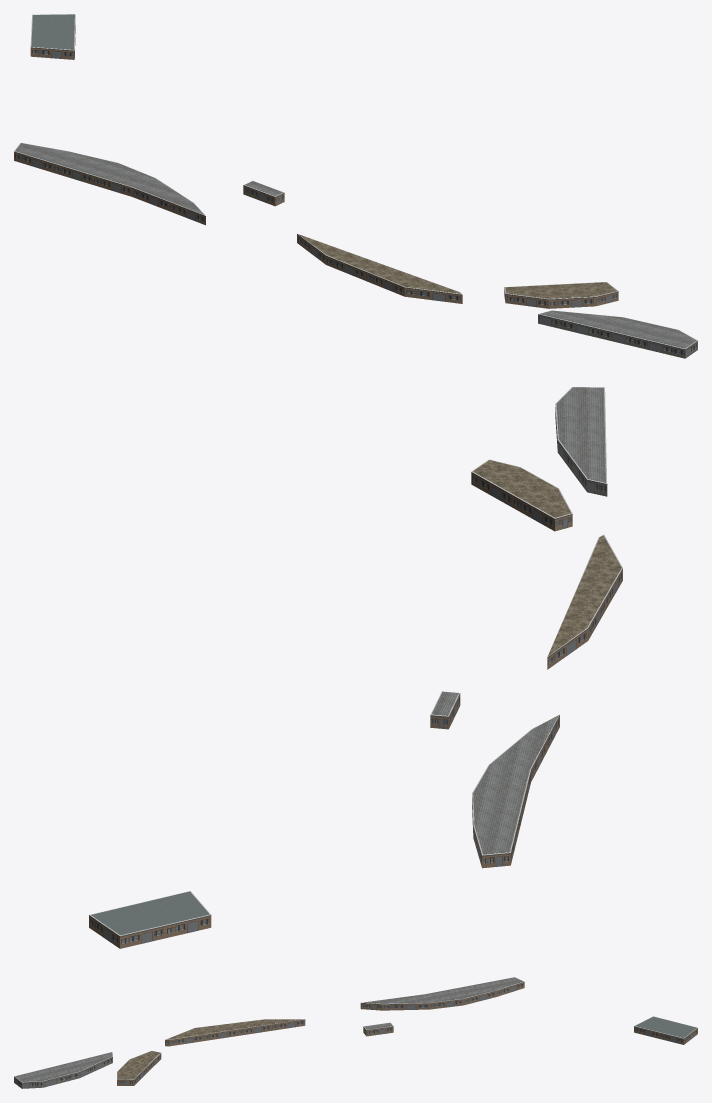
The picture shows the model from 3 angles, top to bottom: view 1: azimuth 30°, elevation 25°; view 2: azimuth 150°, elevation 25°; view 3: azimuth 270°, elevation 25°; orthographic projection. The views are drawn at different scales.
Visible parts, largest first — view 1: BrickArcade, SlateRoof, ConcreteRoof, PanelArcade, ZincRoof, Coping; view 2: SlateRoof, BrickArcade, ConcreteRoof, ZincRoof, Coping; view 3: BrickArcade, SlateRoof, ConcreteRoof, Coping, ZincRoof, PanelArcade.
Boxes of the visible parts, left/top/right/bottom form: BrickArcade: left=14, top=25, right=618, bottom=308; SlateRoof: left=15, top=143, right=696, bottom=348; ConcreteRoof: left=298, top=234, right=616, bottom=298; PanelArcade: left=538, top=314, right=697, bottom=358; ZincRoof: left=31, top=14, right=74, bottom=49; Coping: left=14, top=14, right=697, bottom=349; SlateRoof: left=432, top=387, right=605, bottom=854; BrickArcade: left=89, top=472, right=622, bottom=948; ConcreteRoof: left=473, top=460, right=621, bottom=655; ZincRoof: left=91, top=891, right=209, bottom=935; Coping: left=89, top=387, right=622, bottom=936; BrickArcade: left=117, top=982, right=697, bottom=1085; SlateRoof: left=15, top=977, right=523, bottom=1081; ConcreteRoof: left=117, top=1019, right=303, bottom=1079; Coping: left=14, top=977, right=697, bottom=1082; ZincRoof: left=635, top=1016, right=696, bottom=1038; PanelArcade: left=14, top=1057, right=112, bottom=1088.
Size of the model in its own units: 107 by 3.12 by 294.
Materials: 6 (5 with a texture image).
